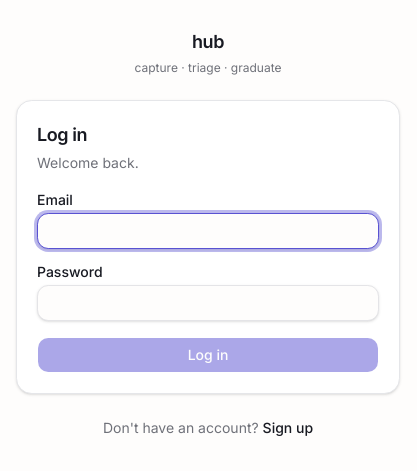
Test: LoginPage › shows a clear error for wrong credentials and stays on the page
In the field labelled "Email": (208, 231) [37,213,379,249], type "me@example.com"
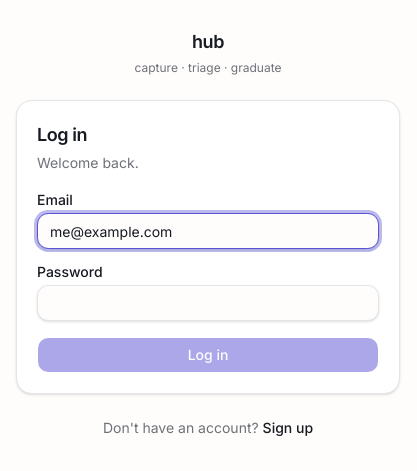
In the password field labelled "Password": (208, 303) [37,285,379,321], type "wrong-password"
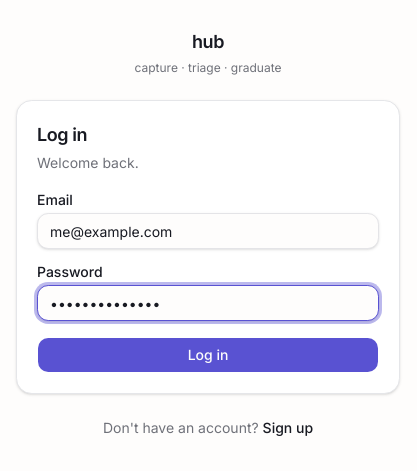
Click the button "Log in": (208, 355) [37,337,379,373]
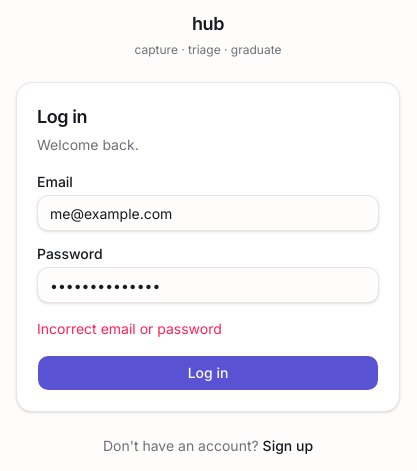
Expected: the message reads "Incorrect email or password", [37,320,222,337]
